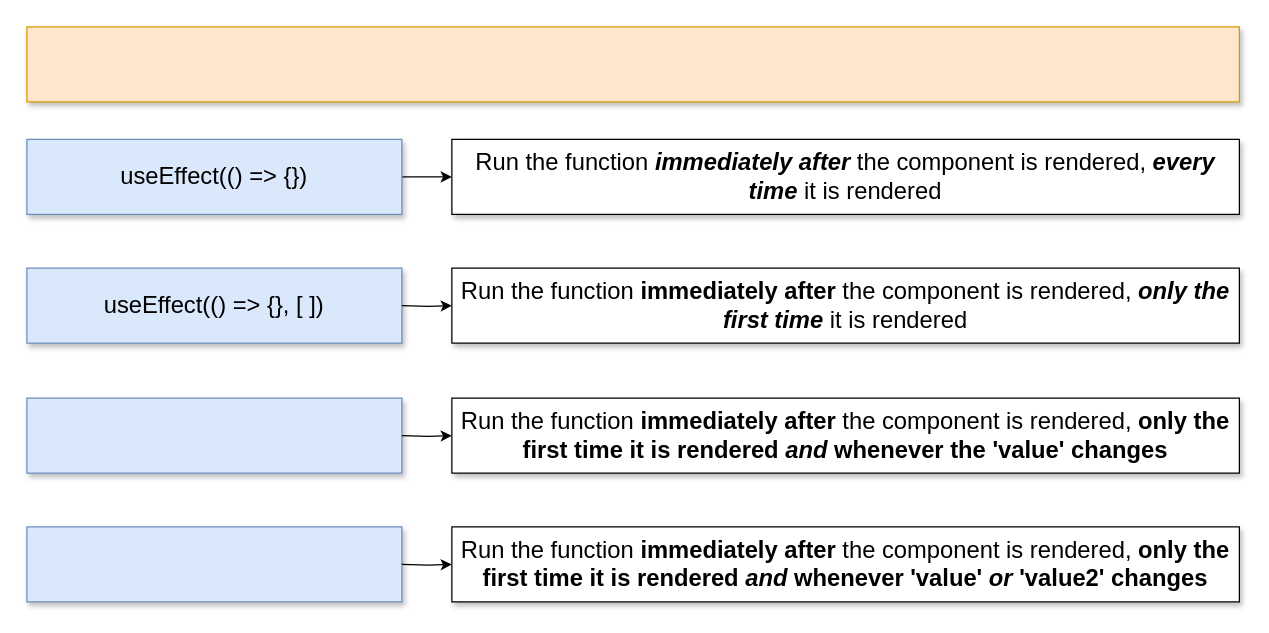
This 1269x633 diagram has some shape labels left out. Each missing label, with the centre of its shape:
The second argument to 'useEffect' controls how often the function is executed: point 634,66
useEffect(() => {}, [value, value2]): point 215,566
useEffect(() => {}, [value]): point 215,437
